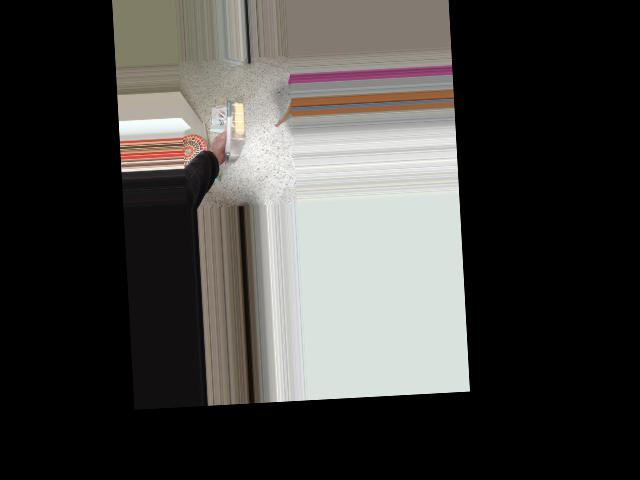cheese: (209, 98, 254, 160)
